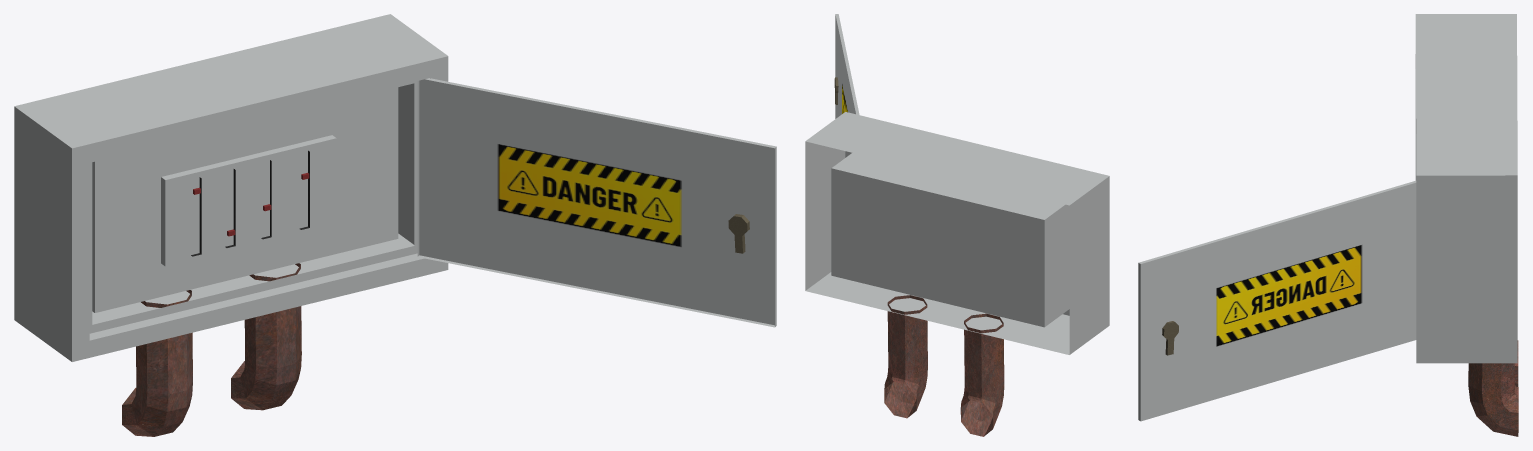
File: Fusebox_0.3.fbx
3 renders of one model, left to right at view 1: azimuth 30°, elevation 25°; view 2: azimuth 150°, elevation 25°; view 3: azimuth 270°, elevation 25°, orthographic. The views are drawn at different scales.
Parts seen in each view (by area): view 1: FUSEBOX; view 2: FUSEBOX; view 3: FUSEBOX.
Part boxes in pixels (box(x1,y1,x2,y2)): FUSEBOX: box(14, 14, 776, 436); FUSEBOX: box(805, 14, 1109, 436); FUSEBOX: box(1138, 14, 1518, 436).
Size of the model in its own units: 180 by 113 by 123.
